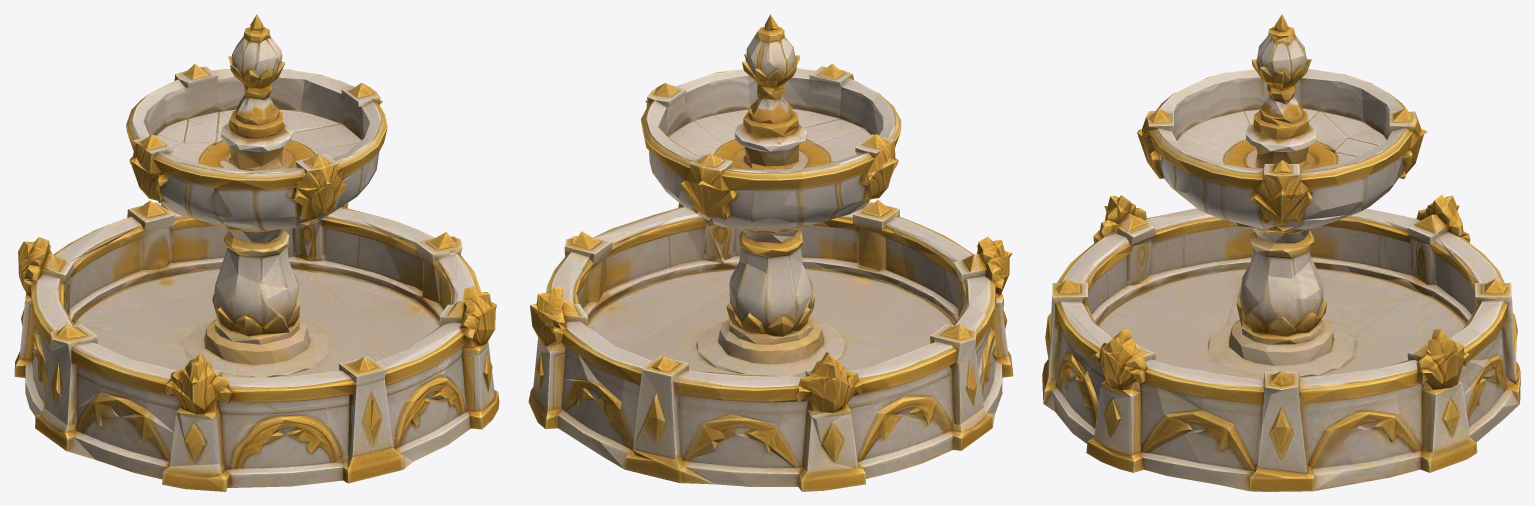
The model's file is bigFountain.glb.
The picture shows the model from 3 angles, left to right: view 1: azimuth 30°, elevation 25°; view 2: azimuth 150°, elevation 25°; view 3: azimuth 270°, elevation 25°; orthographic projection.
Size of the model in its own units: 1.9 by 1.63 by 1.88.
1 material, 1 textured.
